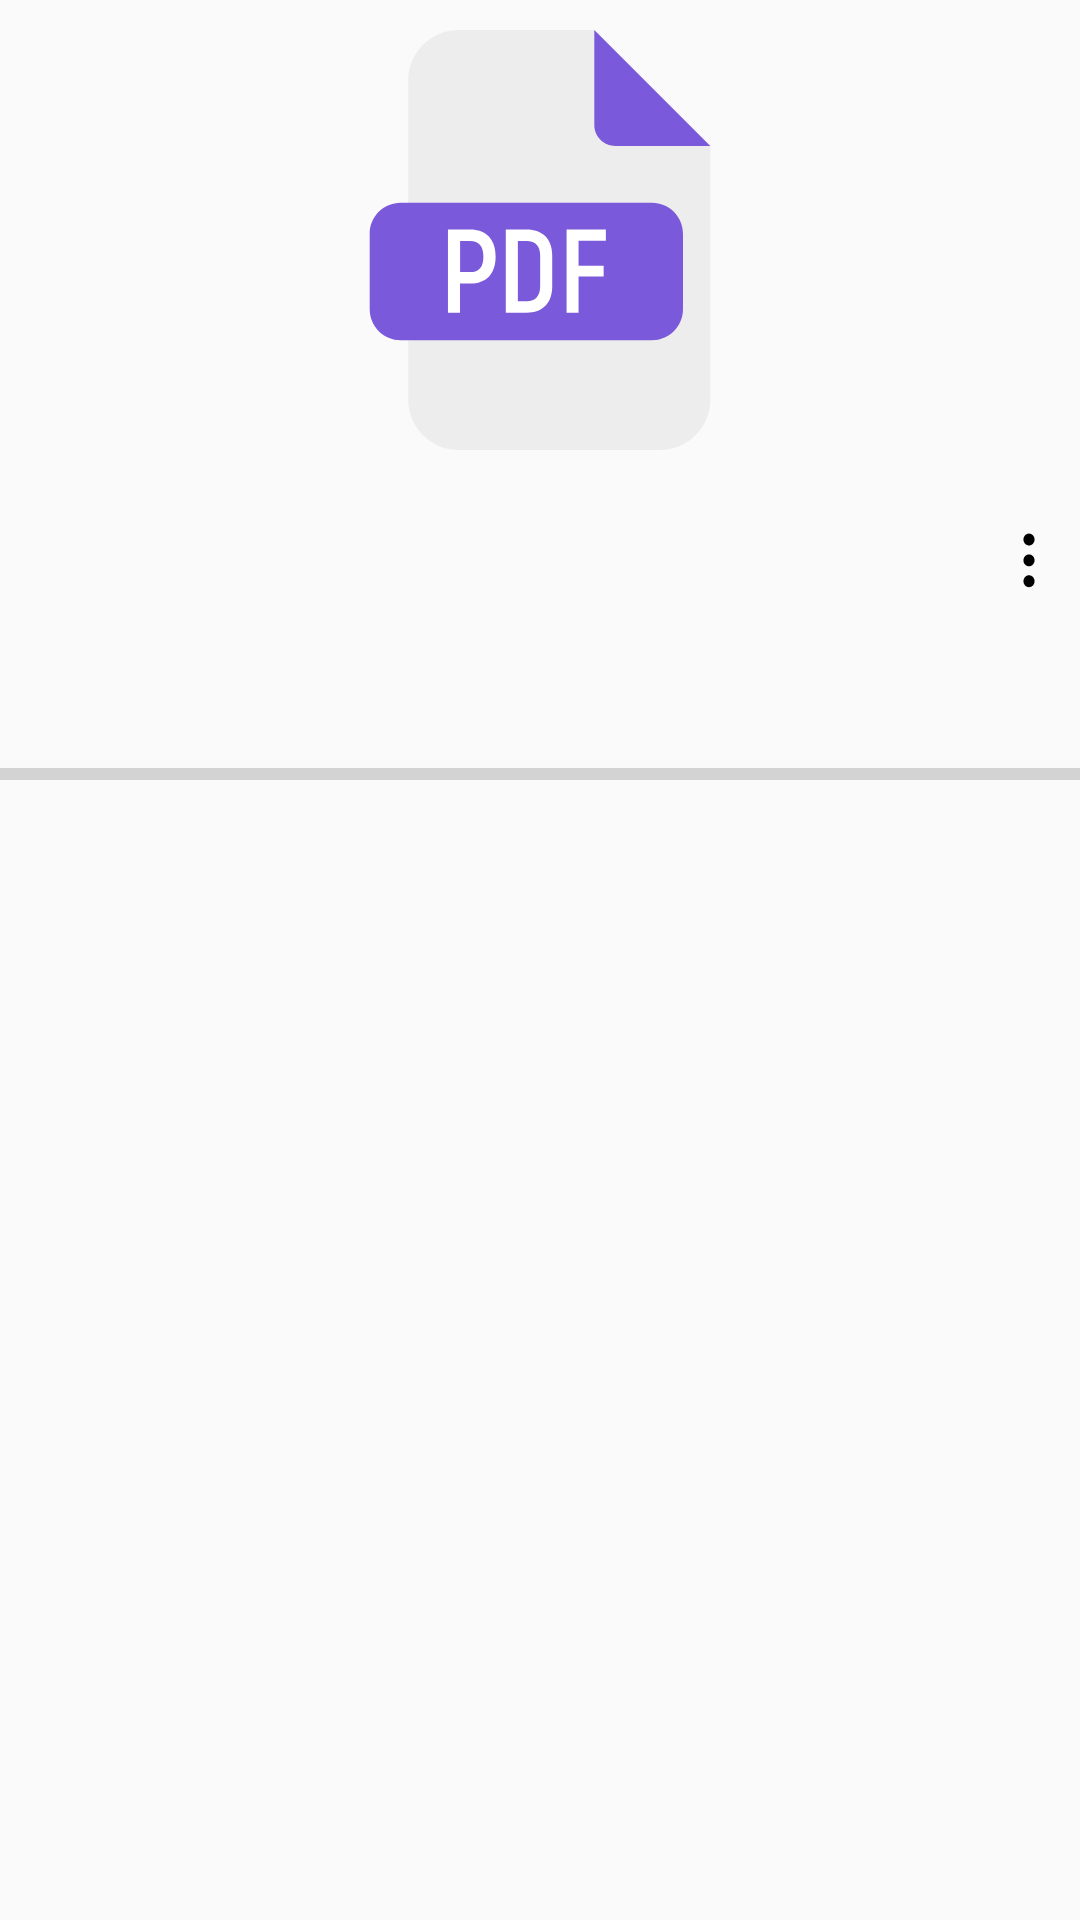

Named icons in this screenshot (1080px×1920px) and their bounding boxes, bbox=[x1, y1, x2, y2]:
Option Menu: bbox=[1023, 533, 1035, 588]
